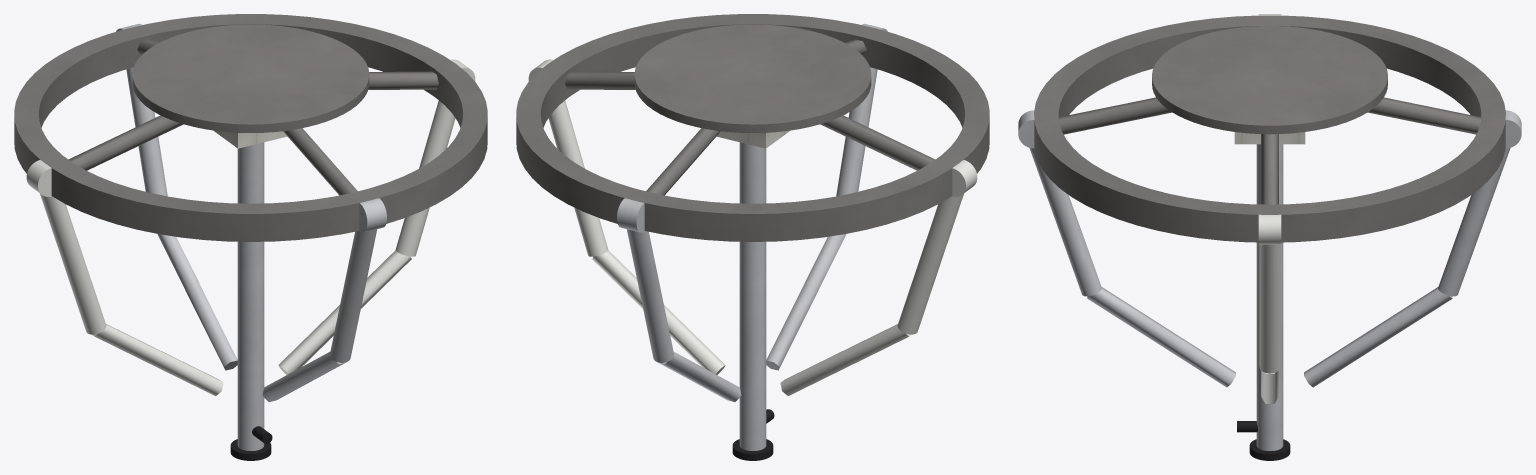
Rendered from station16_capture_claw_m_closed.glb.
3 renders of one model, left to right at view 1: azimuth 30°, elevation 25°; view 2: azimuth 150°, elevation 25°; view 3: azimuth 270°, elevation 25°, orthographic.
Parts seen in each view (by area): view 1: ring, top_plate, boom, finger_3, finger_4, finger_1, finger_2, boom_tip, drive_box; view 2: ring, top_plate, boom, finger_3, finger_2, finger_1, finger_4, drive_box, boom_tip; view 3: ring, top_plate, finger_2, finger_4, finger_1, boom, boom_tip, drive_box.
Part boxes in pixels (box(x1,y1,x2,y2)): ring: box(14, 14, 487, 241); top_plate: box(132, 24, 369, 132); boom: box(237, 142, 264, 450); finger_3: box(26, 160, 223, 395); finger_4: box(262, 198, 386, 401); finger_1: box(278, 59, 475, 374); finger_2: box(116, 23, 237, 370); boom_tip: box(230, 426, 272, 460); drive_box: box(213, 130, 287, 148); ring: box(516, 14, 989, 241); top_plate: box(634, 24, 871, 132); boom: box(739, 142, 766, 450); finger_3: box(780, 160, 977, 395); finger_2: box(617, 198, 741, 401); finger_1: box(528, 59, 725, 374); finger_4: box(766, 23, 887, 370); drive_box: box(716, 130, 790, 148); boom_tip: box(732, 409, 774, 460); ring: box(1034, 15, 1505, 242); top_plate: box(1152, 26, 1387, 134); finger_2: box(1304, 110, 1521, 387); finger_4: box(1018, 110, 1235, 387); finger_1: box(1258, 214, 1281, 403); boom: box(1256, 144, 1283, 450); boom_tip: box(1237, 421, 1290, 460); drive_box: box(1234, 132, 1305, 144).
Bounding box in the file's own units: 2.66 × 2.2 × 2.66.
Materials: 5 (3 with a texture image).
